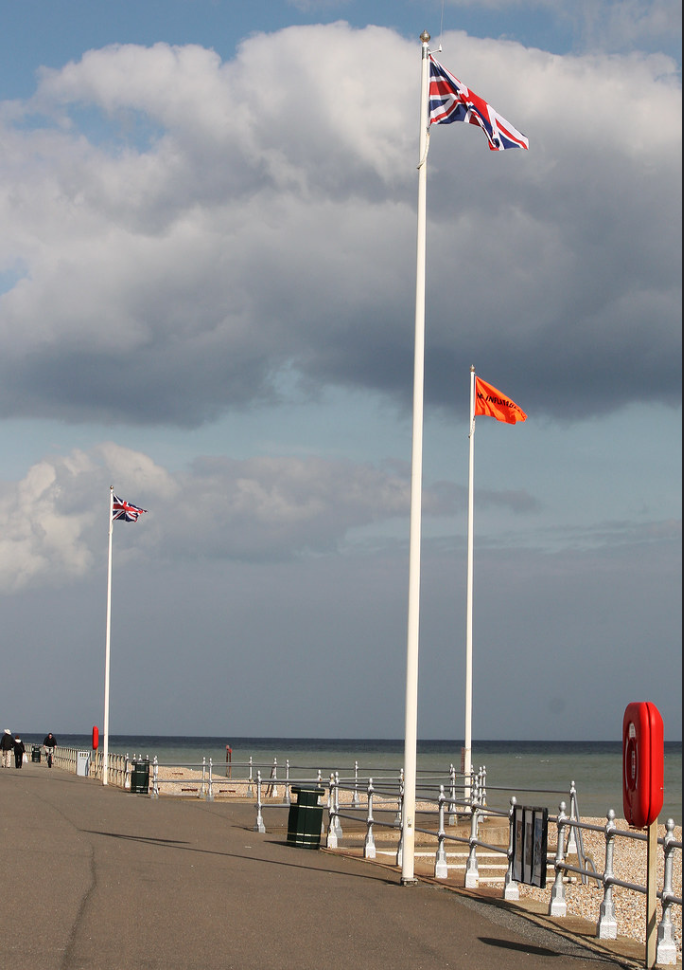Flag: (427, 61, 532, 155), (470, 379, 529, 427), (112, 492, 148, 525)
